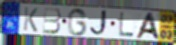A: (133, 11, 161, 40)
B: (42, 7, 62, 35)
G: (66, 7, 89, 37)
J: (89, 9, 110, 38)
K: (22, 6, 40, 34)
L: (118, 11, 135, 38)
